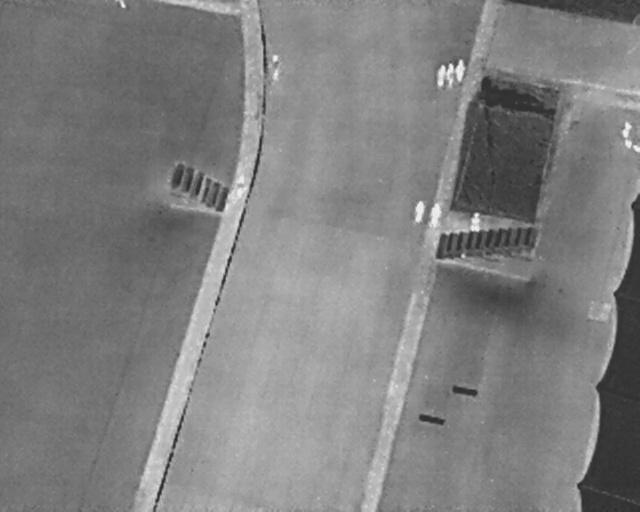Person: (427, 201, 443, 230), (233, 173, 248, 201), (413, 197, 426, 225), (270, 52, 282, 81), (456, 57, 467, 83), (471, 212, 482, 231), (447, 61, 454, 88), (438, 63, 446, 86), (117, 0, 128, 12)
